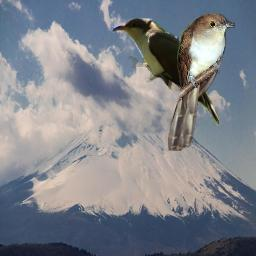Cuckoo: (110, 18, 219, 127), (168, 12, 235, 151)
